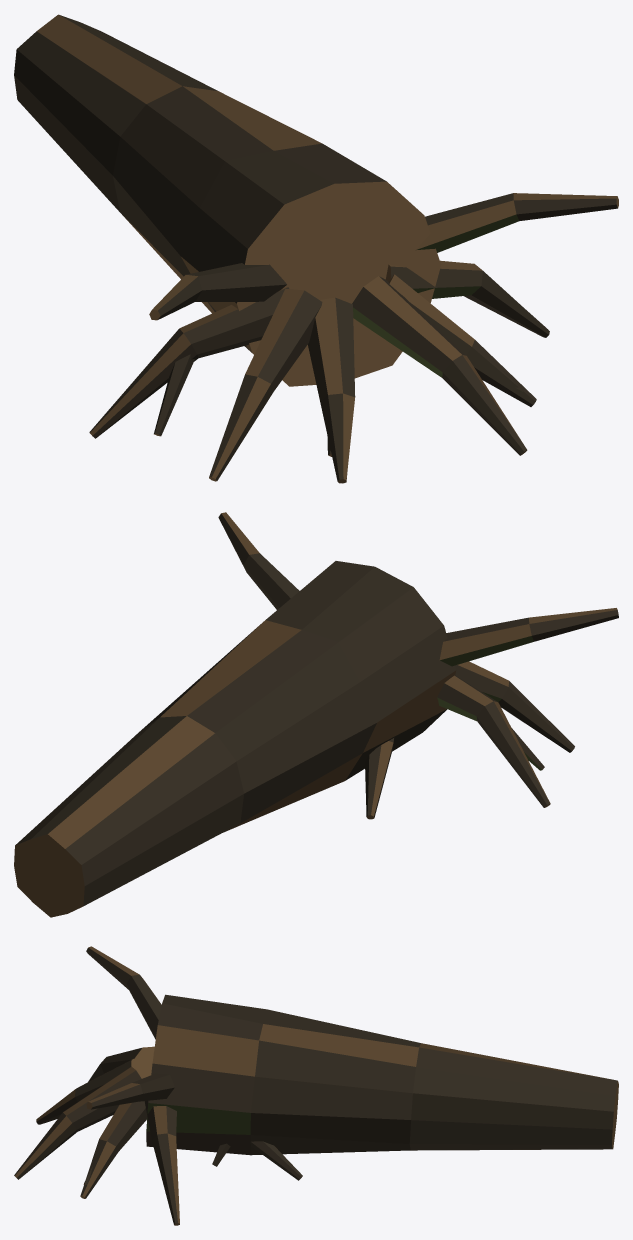
Rendered from wood_007a_open_root_ball.glb.
3 views of the same model, one above another, from view 1: azimuth 30°, elevation 25°; view 2: azimuth 150°, elevation 25°; view 3: azimuth 270°, elevation 25° (orthographic). The views are drawn at different scales.
Parts seen in each view (by area): view 1: wood_007a_open_root_ball__mesh; view 2: wood_007a_open_root_ball__mesh; view 3: wood_007a_open_root_ball__mesh.
Part boxes in pixels (left/top/right/bottom): wood_007a_open_root_ball__mesh: left=14, top=14, right=618, bottom=483; wood_007a_open_root_ball__mesh: left=14, top=512, right=618, bottom=917; wood_007a_open_root_ball__mesh: left=14, top=946, right=618, bottom=1225.
Bounding box in the file's own units: 6.19 × 2.71 × 10.01.
